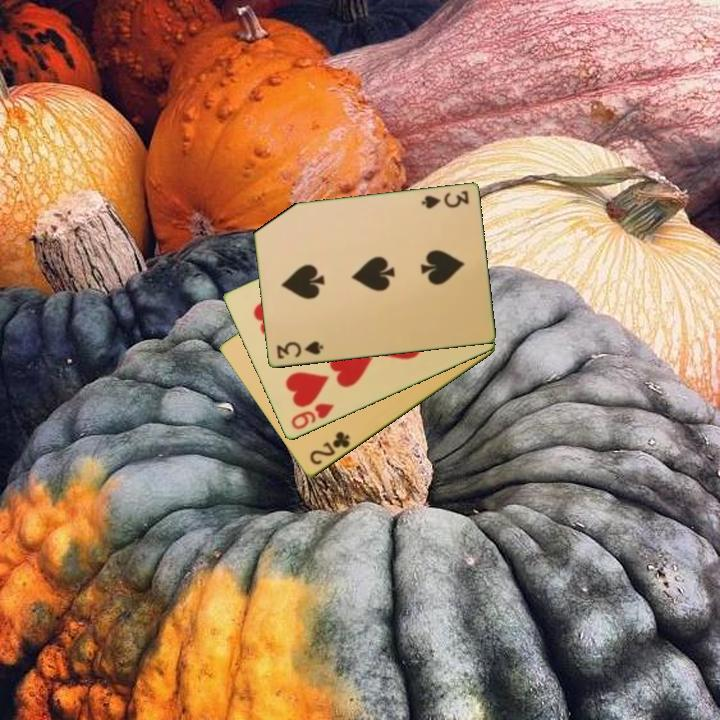2c: (306, 428, 353, 468)
3s: (418, 187, 471, 212), (273, 338, 326, 362)
9h: (287, 400, 337, 433)
